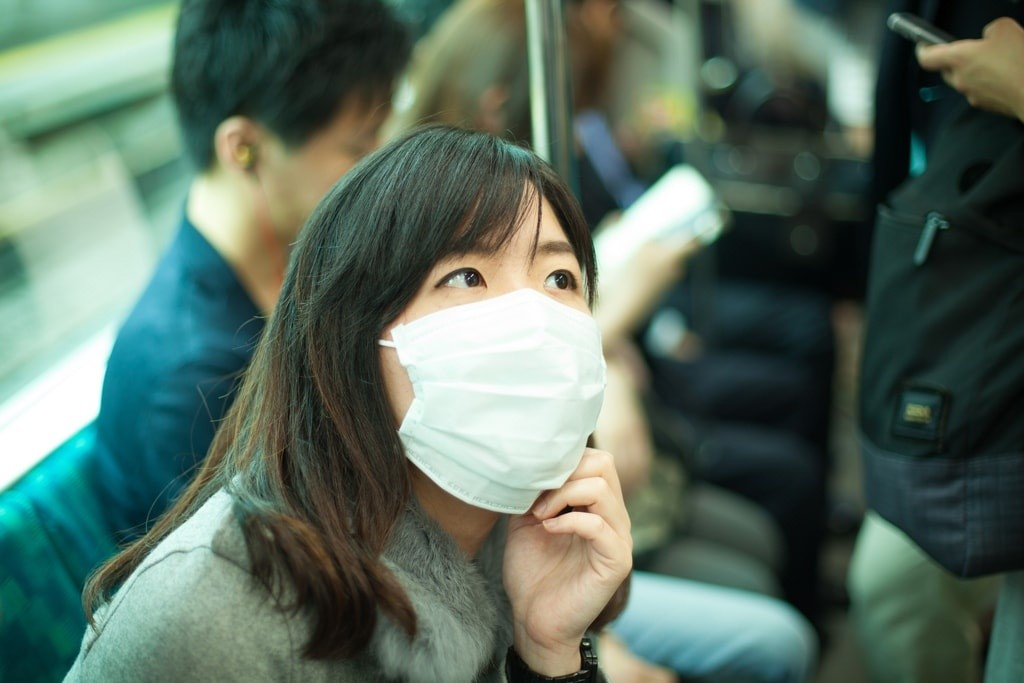face_no_mask: (171, 1, 407, 228)
face_with_mask: (323, 125, 613, 530)
